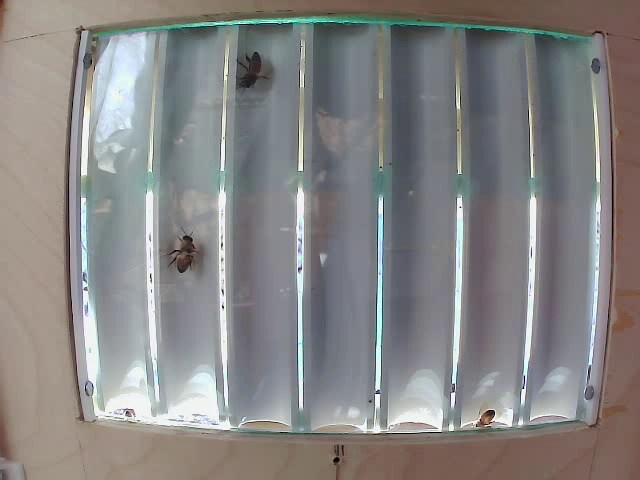bee: (157, 227, 214, 286), (224, 45, 276, 89)
